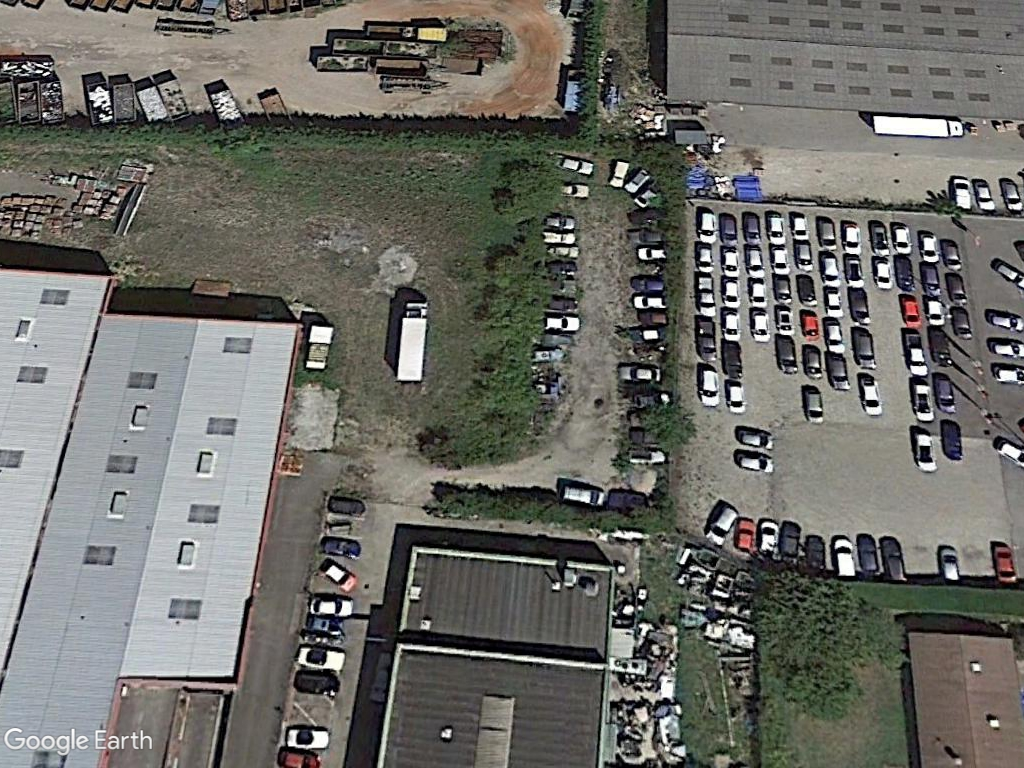car: (848, 323, 878, 374), (829, 533, 856, 581), (907, 378, 935, 424), (990, 542, 1019, 585), (913, 429, 940, 475), (855, 373, 883, 417), (697, 365, 723, 409), (896, 292, 922, 334), (774, 335, 798, 380), (802, 386, 826, 428), (936, 544, 961, 584), (718, 306, 743, 346), (998, 176, 1024, 214), (815, 216, 841, 253), (749, 305, 772, 346), (793, 272, 819, 308), (867, 220, 892, 257), (972, 176, 997, 213), (869, 257, 895, 292), (951, 175, 974, 212), (744, 242, 767, 279), (819, 250, 841, 288), (741, 211, 764, 247), (917, 229, 940, 265), (848, 285, 870, 321), (842, 218, 862, 256), (893, 219, 914, 255), (720, 243, 741, 279), (693, 242, 716, 274), (794, 237, 814, 273), (698, 212, 719, 246), (719, 212, 739, 245), (942, 238, 962, 271), (790, 211, 811, 242), (768, 210, 787, 244), (771, 242, 790, 275)
truck: (393, 298, 430, 387), (867, 109, 967, 139)
